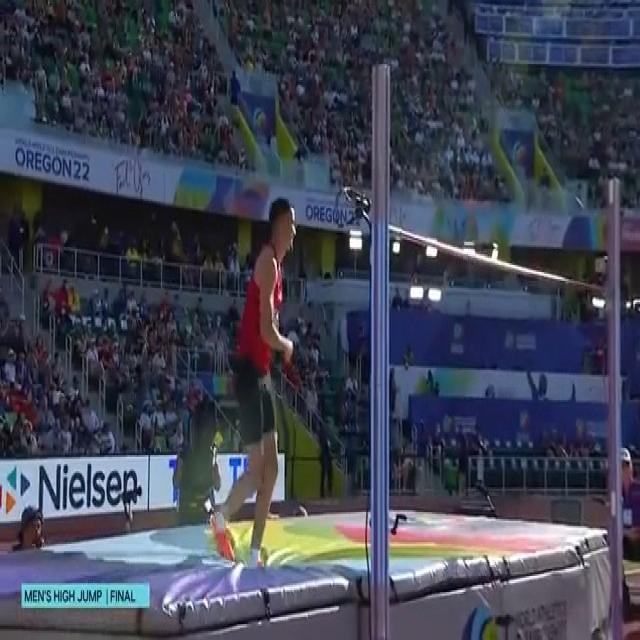land: (210, 196, 300, 570)
